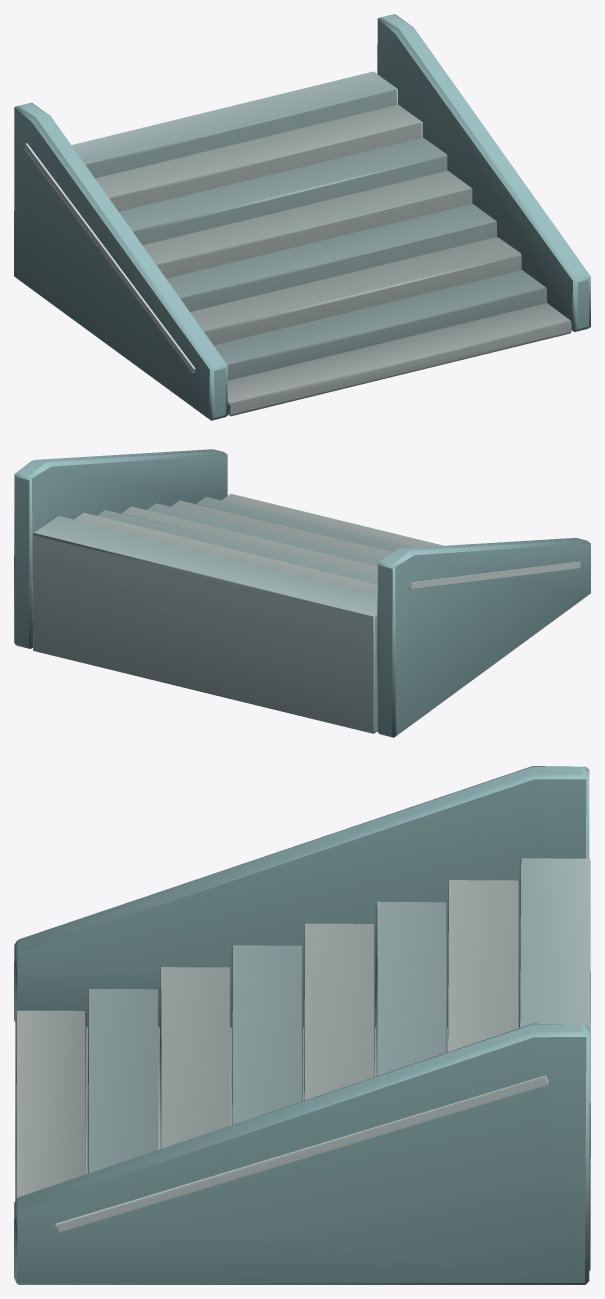
Rendered from stair_lo.lod.glb.
The picture shows the model from 3 angles, top to bottom: view 1: azimuth 30°, elevation 25°; view 2: azimuth 150°, elevation 25°; view 3: azimuth 270°, elevation 25°; orthographic projection. The views are drawn at different scales.
Visible parts, largest first — view 1: stair_lo; view 2: stair_lo; view 3: stair_lo.
Part boxes in pixels (x1=…): stair_lo: x1=14, y1=14, x2=590, y2=420; stair_lo: x1=14, y1=449, x2=590, y2=737; stair_lo: x1=14, y1=766, x2=590, y2=1284.
Size of the model in its own units: 6.78 by 2.9 by 6.01.
